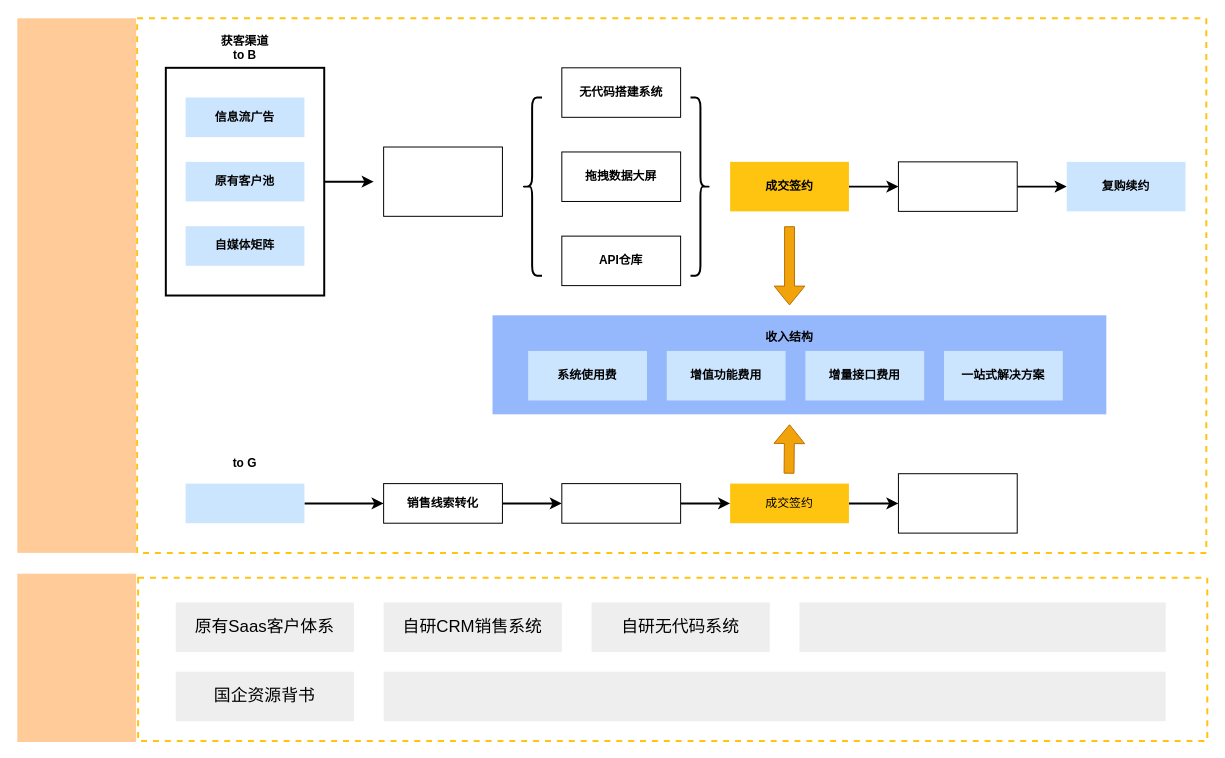
Some shapes in this 1225 by 758 pixel diagram are drawn without their labels. Here are the shapes that lost their labels. From the top down, the centre of each, then its label:
At [442,181]: "销售线索转化 （产品演示）".
At [957,186]: "客户成功团队介入 （产品培训 售后服务）".
At [76,285]: "商业价值 产生路径".
At [244,503]: "商务地推".
At [621,503]: "定制解决方案 确认合作意向".
At [957,503]: "（政府机构）产品培训/售后成功团队".
At [982,626]: "产品培训、售后客户成功团队".
At [76,657]: "生产、交付 保障体系".
At [774,696]: "全生命周期客户管理运营体系".
